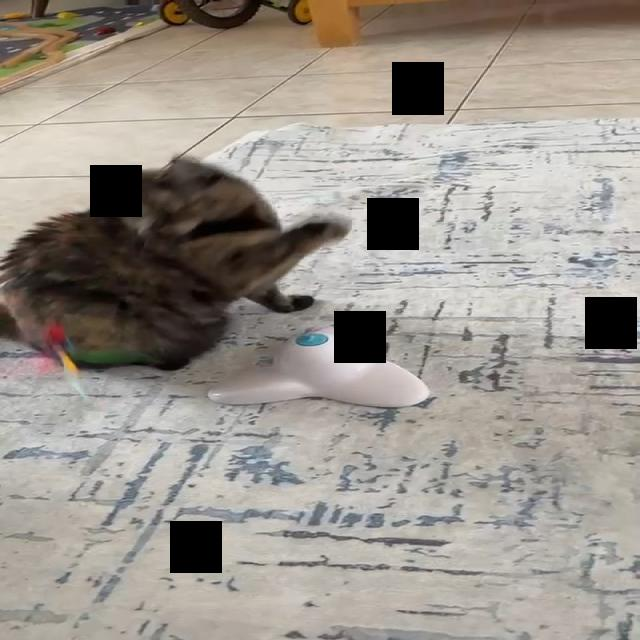authorized: (0, 154, 352, 372)
